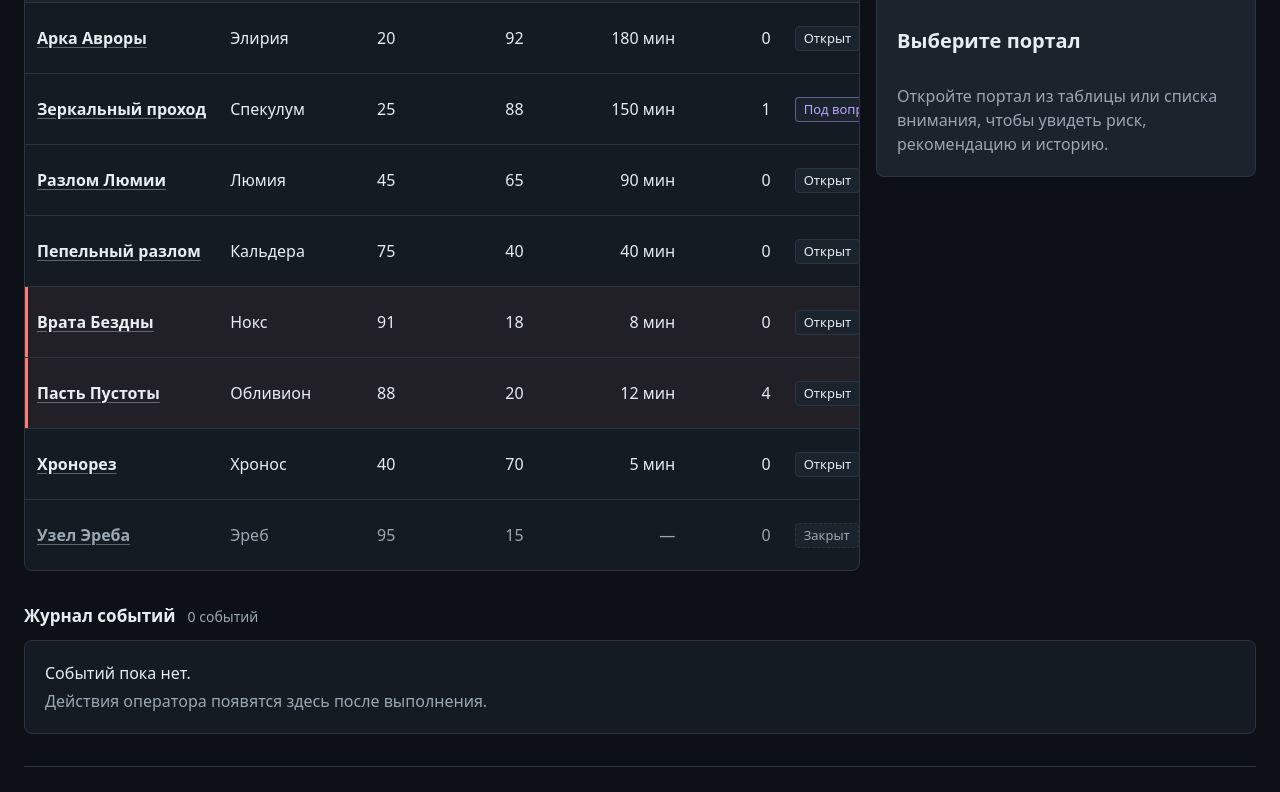
Test: Выбор портала и карточка › «Пасть Пустоты»: рекомендация учитывает существ перед закрытием
The image size is (1280, 792).
(page scrolled)
Click the button "Пасть Пустоты": (98, 393) [37, 381, 160, 405]
(page scrolled)
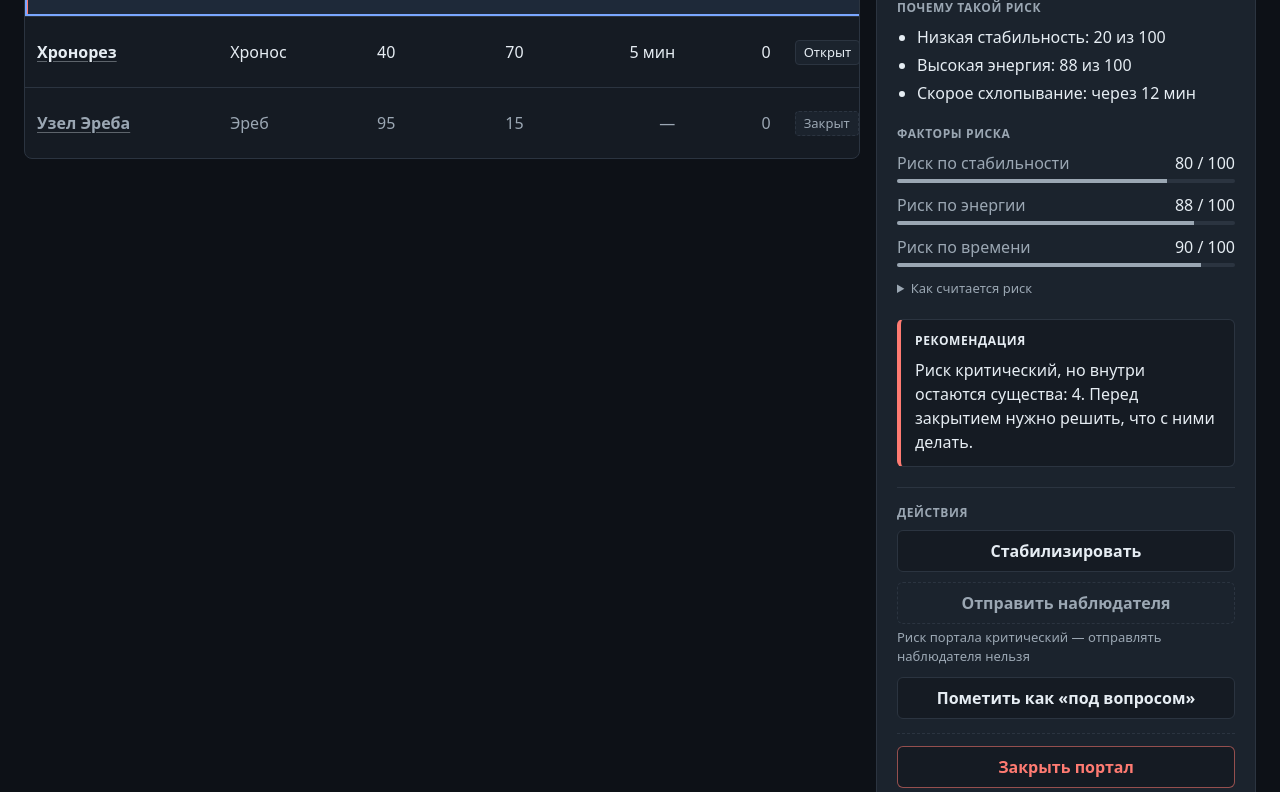
Check: the element "Рекомендация" shows "существ", box [915, 359, 1215, 453]
